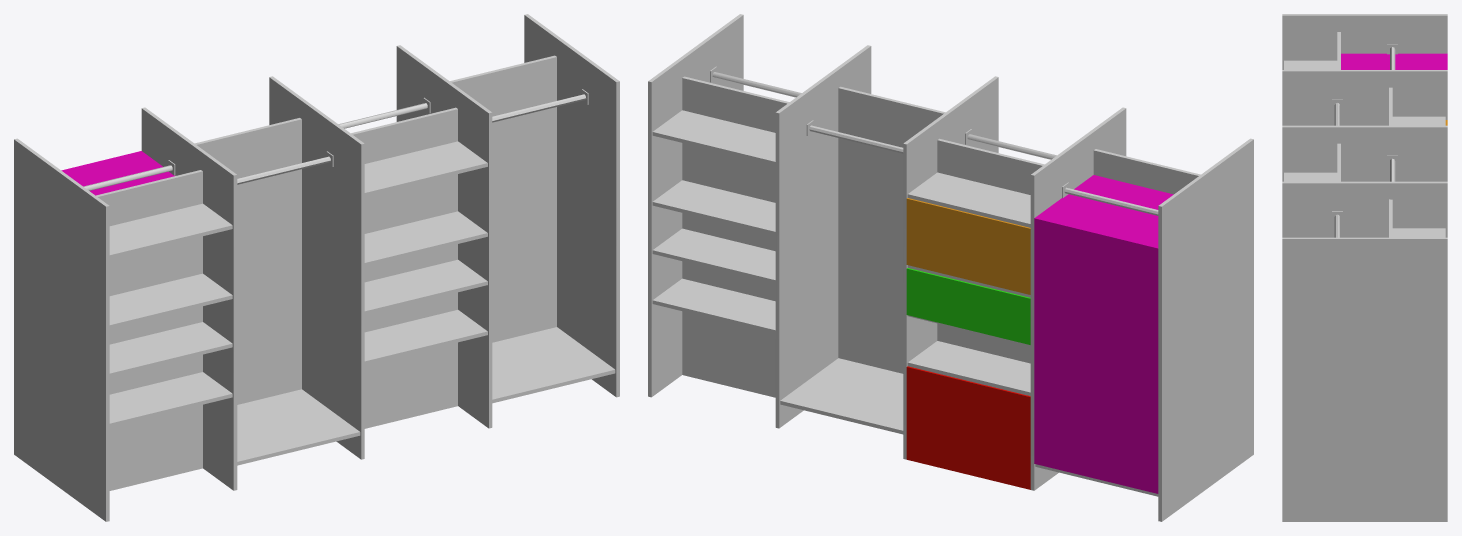
Rendered from shelves.fbx.
The picture shows the model from 3 angles, left to right: view 1: azimuth 30°, elevation 25°; view 2: azimuth 150°, elevation 25°; view 3: azimuth 270°, elevation 25°; orthographic projection. The views are drawn at different scales.
Visible parts, largest first — view 1: mesh, full; view 2: mesh, full, large, medium, small; view 3: mesh, full.
Boxes of the visible parts, x1,y1,x2,y2 form: mesh: [14, 14, 619, 521]; full: [61, 151, 175, 195]; mesh: [648, 14, 1253, 521]; full: [1034, 175, 1173, 493]; large: [906, 366, 1030, 489]; medium: [906, 198, 1030, 294]; small: [906, 268, 1030, 344]; mesh: [1282, 14, 1447, 521]; full: [1341, 53, 1447, 69].
Bounding box in the file's own units: 290 × 170 × 90.04.
